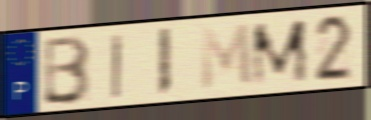2: (313, 13, 354, 84)
B: (41, 33, 93, 107)
I: (156, 26, 174, 99), (110, 32, 125, 101)
M: (250, 16, 311, 90), (199, 21, 255, 93)
